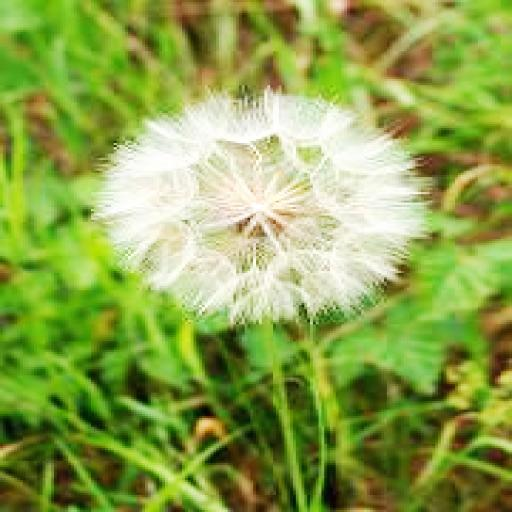dandelion: (94, 94, 421, 320)
